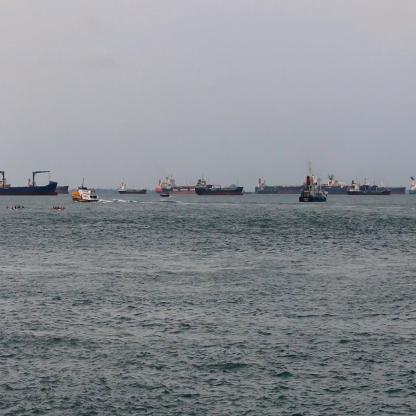Container Ship: (254, 172, 345, 194), (0, 168, 60, 196), (332, 172, 406, 194), (298, 159, 330, 203), (196, 173, 245, 196), (157, 169, 197, 193), (347, 176, 392, 195), (28, 176, 70, 192), (117, 175, 147, 195)
